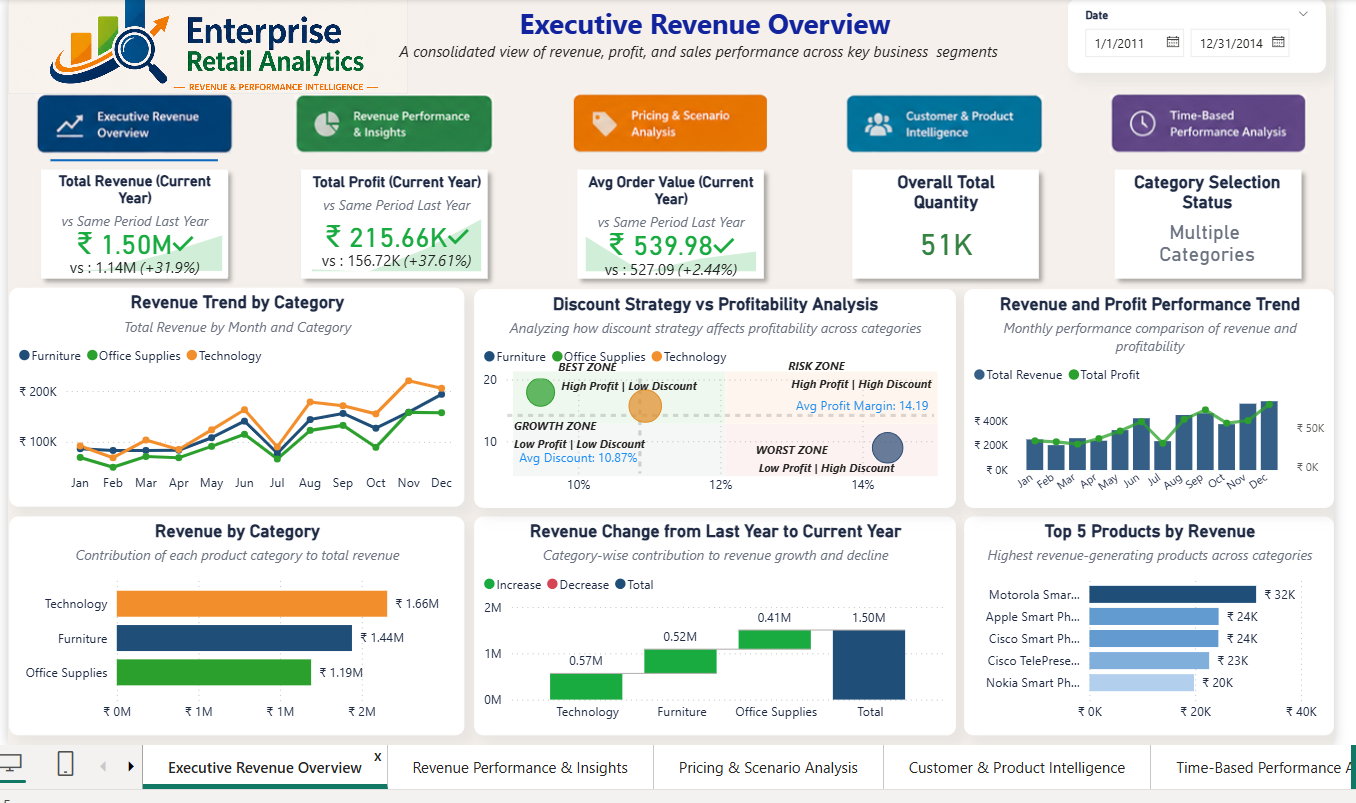

Layout of this report page (visuals, bound fields, positions):
{"tool":"powerbi","page":{"name":"Executive Revenue Overview","canvas":[1280,720],"ordinal":0},"visuals":[{"type":"image","box":[0,0,386.1,91.7],"z":0},{"type":"textbox","box":[487.4,359.5,205.1,50.7],"z":0,"group":"g1"},{"type":"textbox","box":[360.7,0,623.7,91.7],"z":1000},{"type":"textbox","box":[692.5,359.5,205.1,50.7],"z":1000,"group":"g1"},{"type":"image","box":[22.9,91.7,197.9,57.9],"z":2000},{"type":"textbox","box":[487.4,410.2,205.1,50.7],"z":2000,"group":"g1"},{"type":"image","box":[273.9,91.7,197.9,57.9],"z":3000},{"type":"textbox","box":[692.5,410.2,205.1,50.7],"z":3000,"group":"g1"},{"type":"image","box":[540.5,91.7,197.9,57.9],"z":4000},{"type":"textbox","box":[526,340.2,156.8,47.1],"z":4000,"group":"g1"},{"type":"image","box":[809.5,91.7,190.6,57.9],"z":5000},{"type":"textbox","box":[748,339,156.8,47.1],"z":5000,"group":"g1"},{"type":"image","box":[1059.3,91.7,197.9,57.9],"z":6000},{"type":"textbox","box":[471.7,396.9,156.8,47.1],"z":6000,"group":"g1"},{"type":"shape","box":[41,149.6,161.7,12.1],"z":7000},{"type":"textbox","box":[716.6,419.8,155.6,47.1],"z":7000,"group":"g1"},{"type":"shape","box":[22.9,155.6,197.9,123.1],"z":8000},{"type":"kpi","title":"Total Revenue (Current Year)","fields":{"Goal":["All Measures Table.Previous Revenue"],"Indicator":["All Measures Table.Current Year Revenue"],"TrendLine":["dim_date.Year"]},"box":[32.6,166.5,179.8,101.3],"z":9000},{"type":"scatterChart","title":"Discount Strategy vs Profitability Analysis","fields":{"Series":["dim_product.Category"],"Size":["All Measures Table.Total Revenue"],"X":["All Measures Table.Avg Discount"],"Y":["All Measures Table.Profit Margin %"]},"box":[450,279.9,464.5,211.1],"z":9000,"group":"g1"},{"type":"shape","box":[273.9,155.6,197.9,123.1],"z":10000},{"type":"kpi","title":"Total Profit (Current Year)","fields":{"Goal":["All Measures Table.Previous Profit"],"Indicator":["All Measures Table.Current Year Profit"],"TrendLine":["dim_date.Year"]},"box":[288.3,167.7,173.7,100.1],"z":11000},{"type":"shape","box":[540.5,155.6,197.9,123.1],"z":12000},{"type":"kpi","title":"Avg Order Value (Current Year)","fields":{"Goal":["All Measures Table.Previous Revenue"],"Indicator":["All Measures Table.Current Year AOV"],"TrendLine":["dim_date.Year"]},"box":[552.5,167.7,174.9,100.1],"z":13000},{"type":"shape","box":[805.9,155.6,197.9,123.1],"z":14000},{"type":"shape","box":[1059.3,155.6,197.9,123.1],"z":15000},{"type":"card","title":"Overall Total Quantity","fields":{"Values":["All Measures Table.Total Quantity"]},"box":[826.4,166.5,158,100.1],"z":16000},{"type":"card","title":"Category Selection Status","fields":{"Values":["All Measures Table.Category Selection Status"]},"box":[1074.9,166.5,165.3,100.1],"z":17000},{"type":"lineChart","title":"Revenue Trend by Category","fields":{"Category":["dim_date.Month"],"Series":["dim_product.Category"],"Y":["All Measures Table.Total Revenue"]},"box":[1.2,278.7,439.1,211.1],"z":18000},{"type":"barChart","title":"Revenue by Category","fields":{"Category":["dim_product.Category"],"Y":["All Measures Table.Total Revenue"]},"box":[1,500,439,211],"z":19000},{"type":"slicer","fields":{"Values":["dim_date.Date"]},"box":[1023.1,0,248.5,71.2],"z":20000},{"type":"waterfallChart","title":"Revenue Change from Last Year to Current Year","fields":{"Category":["dim_product.Category"],"Y":["All Measures Table.Revenue YoY Difference"]},"box":[450,499.5,464.5,211.1],"z":21000},{"type":"barChart","title":"Top 5 Products by Revenue","fields":{"Category":["dim_product.Product Name"],"Y":["All Measures Table.Total Revenue"]},"box":[922.9,499.5,357.1,211.1],"z":23000},{"type":"lineClusteredColumnComboChart","title":"Revenue and Profit Performance Trend","fields":{"Category":["dim_date.Month"],"Y":["All Measures Table.Total Revenue"],"Y2":["All Measures Table.Total Profit"]},"box":[922.9,279.9,357.1,211.1],"z":24000},{"type":"actionButton","box":[275.1,91.7,196.6,57.9],"z":32001},{"type":"actionButton","box":[541.7,91.7,196.6,57.9],"z":32002},{"type":"actionButton","box":[803.5,91.7,196.6,57.9],"z":32003},{"type":"actionButton","box":[1060.5,91.7,196.6,57.9],"z":32004},{"type":"group","id":"g1","title":"Group 1","box":[450,279.9,464.5,211.1],"z":32005}]}

Visuals, with their boxes on the page's 1280x720 design canvas (x1, y1, x2, y2). These are canvas units, not pixel positions in the 1356x803 screenshot, which may show the page scaled, cropped or inside an application window:
image: {"left": 0, "top": 0, "right": 386, "bottom": 92}
textbox: {"left": 487, "top": 360, "right": 692, "bottom": 410}
textbox: {"left": 361, "top": 0, "right": 984, "bottom": 92}
textbox: {"left": 692, "top": 360, "right": 898, "bottom": 410}
image: {"left": 23, "top": 92, "right": 221, "bottom": 150}
textbox: {"left": 487, "top": 410, "right": 692, "bottom": 461}
image: {"left": 274, "top": 92, "right": 472, "bottom": 150}
textbox: {"left": 692, "top": 410, "right": 898, "bottom": 461}
image: {"left": 540, "top": 92, "right": 738, "bottom": 150}
textbox: {"left": 526, "top": 340, "right": 683, "bottom": 387}
image: {"left": 810, "top": 92, "right": 1000, "bottom": 150}
textbox: {"left": 748, "top": 339, "right": 905, "bottom": 386}
image: {"left": 1059, "top": 92, "right": 1257, "bottom": 150}
textbox: {"left": 472, "top": 397, "right": 628, "bottom": 444}
shape: {"left": 41, "top": 150, "right": 203, "bottom": 162}
textbox: {"left": 717, "top": 420, "right": 872, "bottom": 467}
shape: {"left": 23, "top": 156, "right": 221, "bottom": 279}
"Total Revenue (Current Year)" kpi: {"left": 33, "top": 166, "right": 212, "bottom": 268}
"Discount Strategy vs Profitability Analysis" scatterChart: {"left": 450, "top": 280, "right": 914, "bottom": 491}
shape: {"left": 274, "top": 156, "right": 472, "bottom": 279}
"Total Profit (Current Year)" kpi: {"left": 288, "top": 168, "right": 462, "bottom": 268}
shape: {"left": 540, "top": 156, "right": 738, "bottom": 279}
"Avg Order Value (Current Year)" kpi: {"left": 552, "top": 168, "right": 727, "bottom": 268}
shape: {"left": 806, "top": 156, "right": 1004, "bottom": 279}
shape: {"left": 1059, "top": 156, "right": 1257, "bottom": 279}
"Overall Total Quantity" card: {"left": 826, "top": 166, "right": 984, "bottom": 267}
"Category Selection Status" card: {"left": 1075, "top": 166, "right": 1240, "bottom": 267}
"Revenue Trend by Category" lineChart: {"left": 1, "top": 279, "right": 440, "bottom": 490}
"Revenue by Category" barChart: {"left": 1, "top": 500, "right": 440, "bottom": 711}
slicer - dim_date.Date: {"left": 1023, "top": 0, "right": 1272, "bottom": 71}
"Revenue Change from Last Year to Current Year" waterfallChart: {"left": 450, "top": 500, "right": 914, "bottom": 711}
"Top 5 Products by Revenue" barChart: {"left": 923, "top": 500, "right": 1280, "bottom": 711}
"Revenue and Profit Performance Trend" lineClusteredColumnComboChart: {"left": 923, "top": 280, "right": 1280, "bottom": 491}
actionButton: {"left": 275, "top": 92, "right": 472, "bottom": 150}
actionButton: {"left": 542, "top": 92, "right": 738, "bottom": 150}
actionButton: {"left": 804, "top": 92, "right": 1000, "bottom": 150}
actionButton: {"left": 1060, "top": 92, "right": 1257, "bottom": 150}
"Group 1" group: {"left": 450, "top": 280, "right": 914, "bottom": 491}
